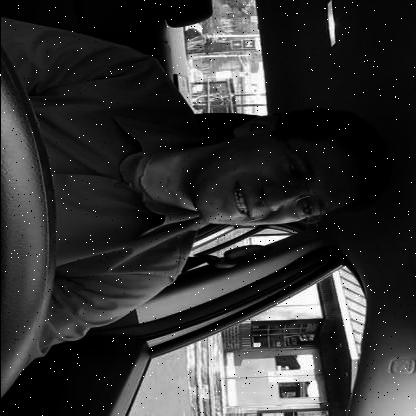no_seatbelt: (23, 90, 392, 284)
